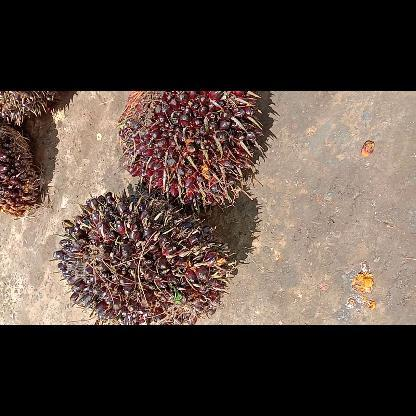TBS mentah: (52, 192, 234, 324), (119, 91, 261, 207)
